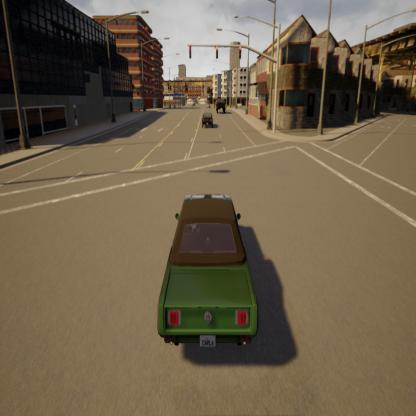Cars: (157, 192, 258, 356), (200, 109, 214, 129), (214, 95, 226, 115)
